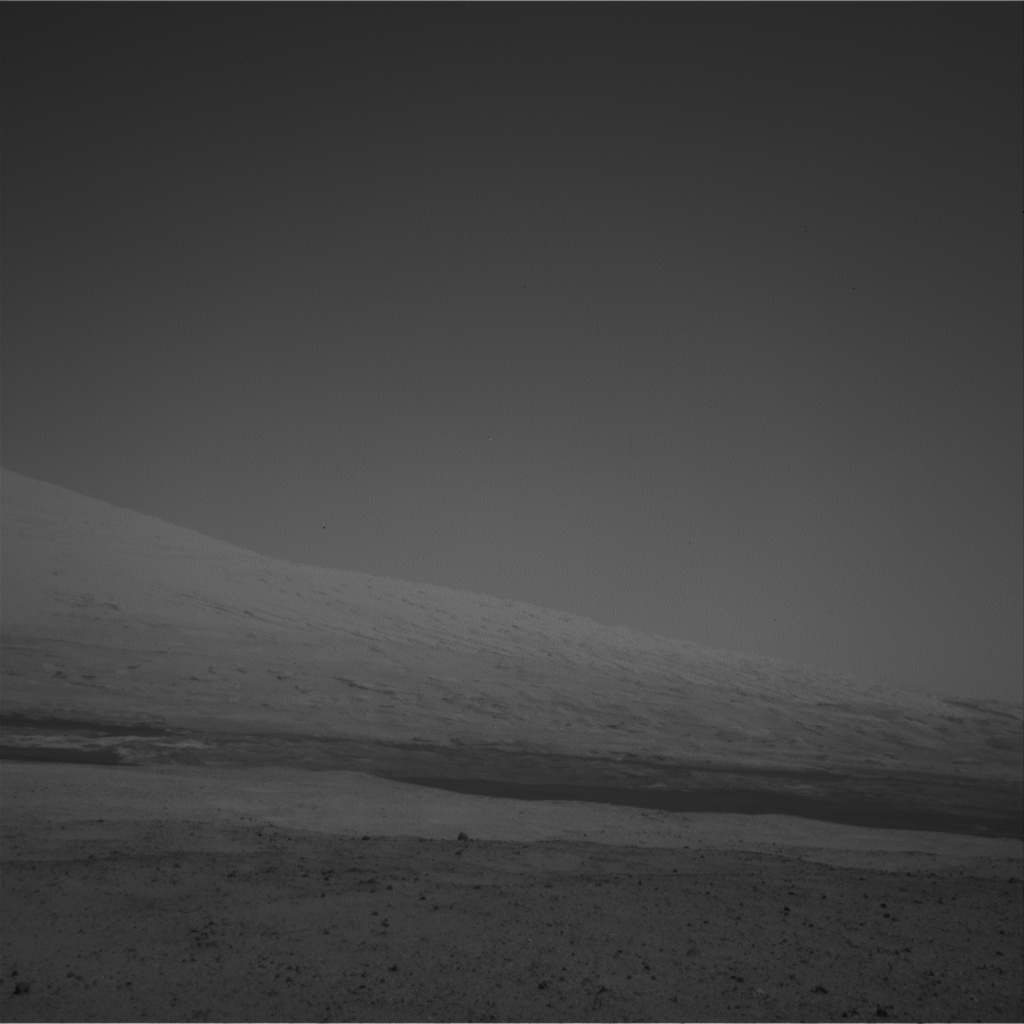soil: (6, 883, 1016, 1018)
